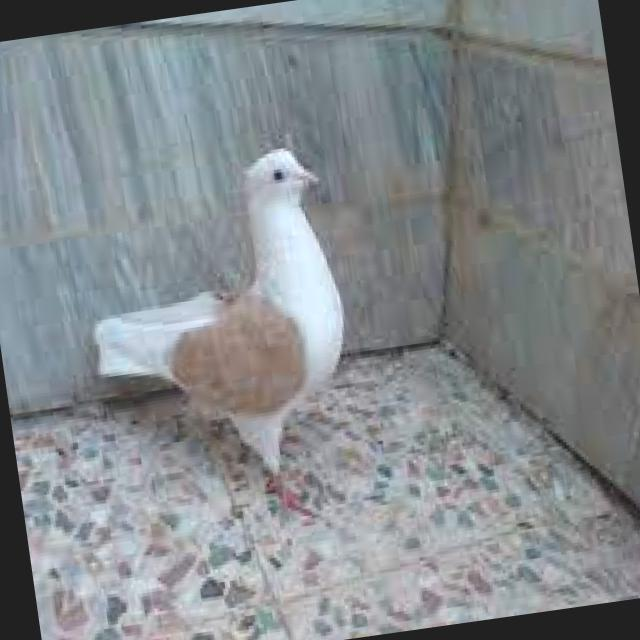bird: (63, 140, 374, 542)
